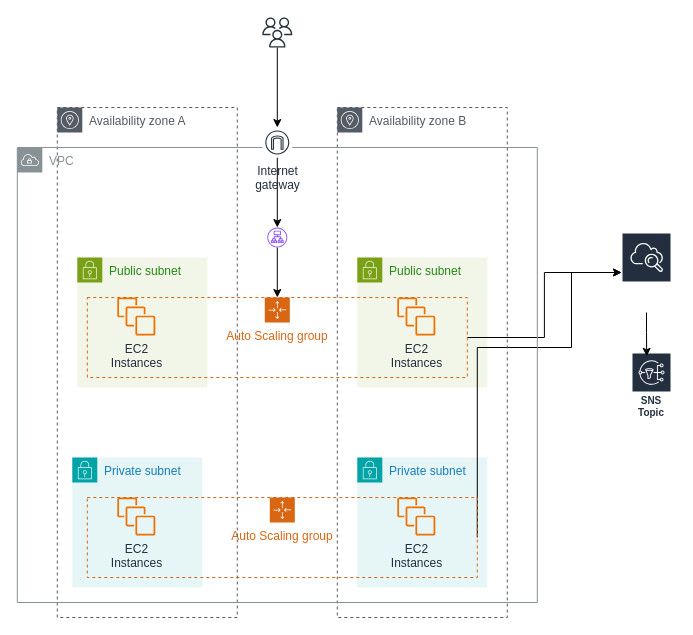
Image size: 693x635. Some labels were removed from this diagram. The shapes that lost their labels are listed below. From the top down, each one's centre as x and y in pixels, then its label:
At pixel 277 32: "Users".
At pixel 277 237: "ALB".
At pixel 646 272: "CloudWatch Alarm".
